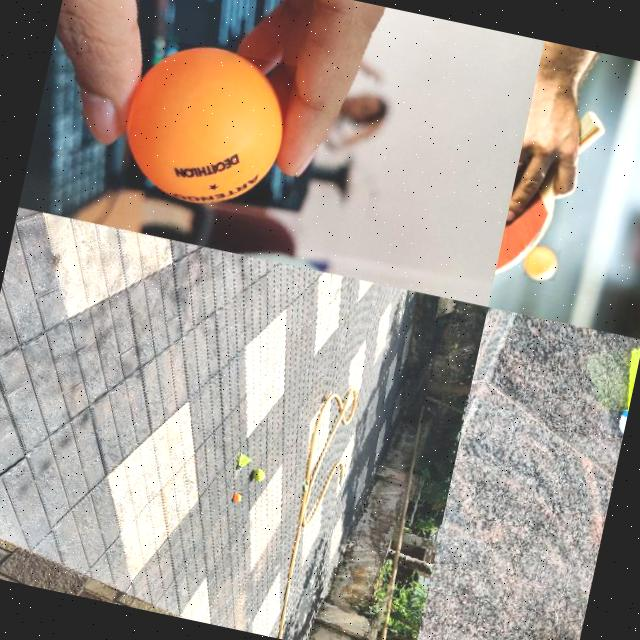ping-pong-ball: (115, 34, 296, 218), (521, 243, 560, 282), (232, 492, 242, 501)
